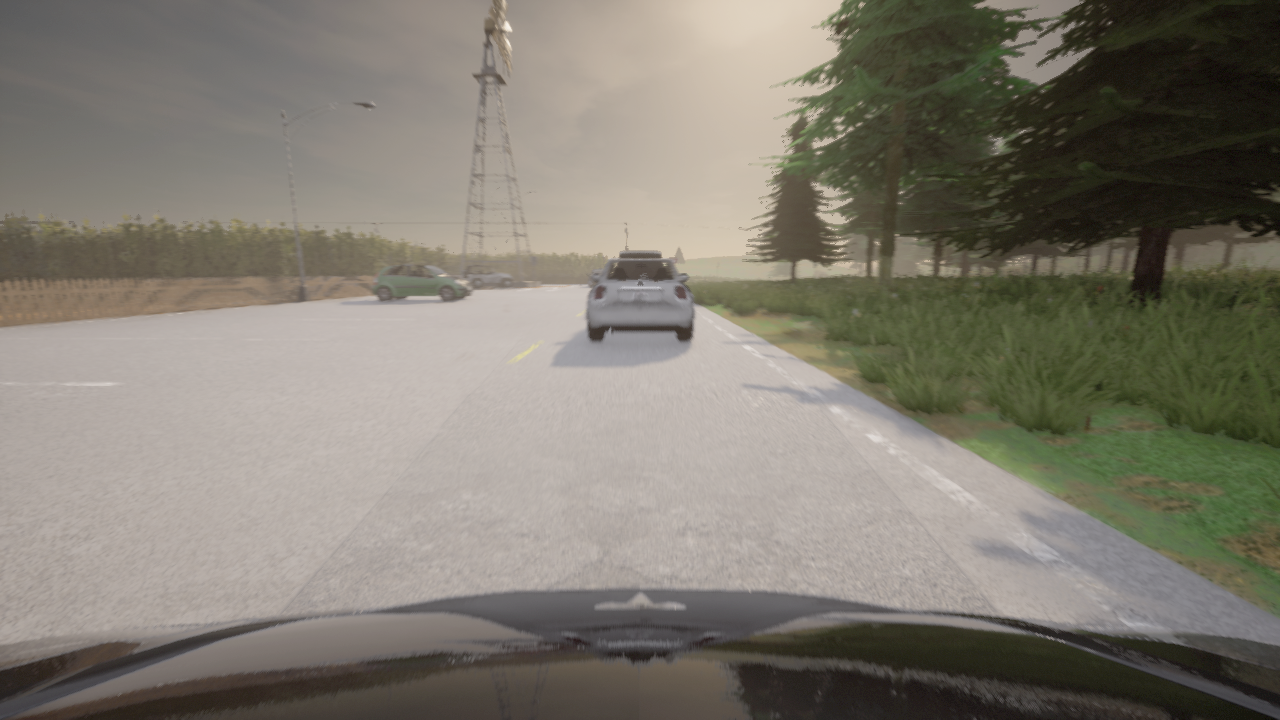cyclist: (0, 588, 1279, 719), (586, 258, 693, 341), (372, 264, 472, 300), (461, 265, 514, 288), (587, 269, 603, 286), (619, 251, 660, 257)
